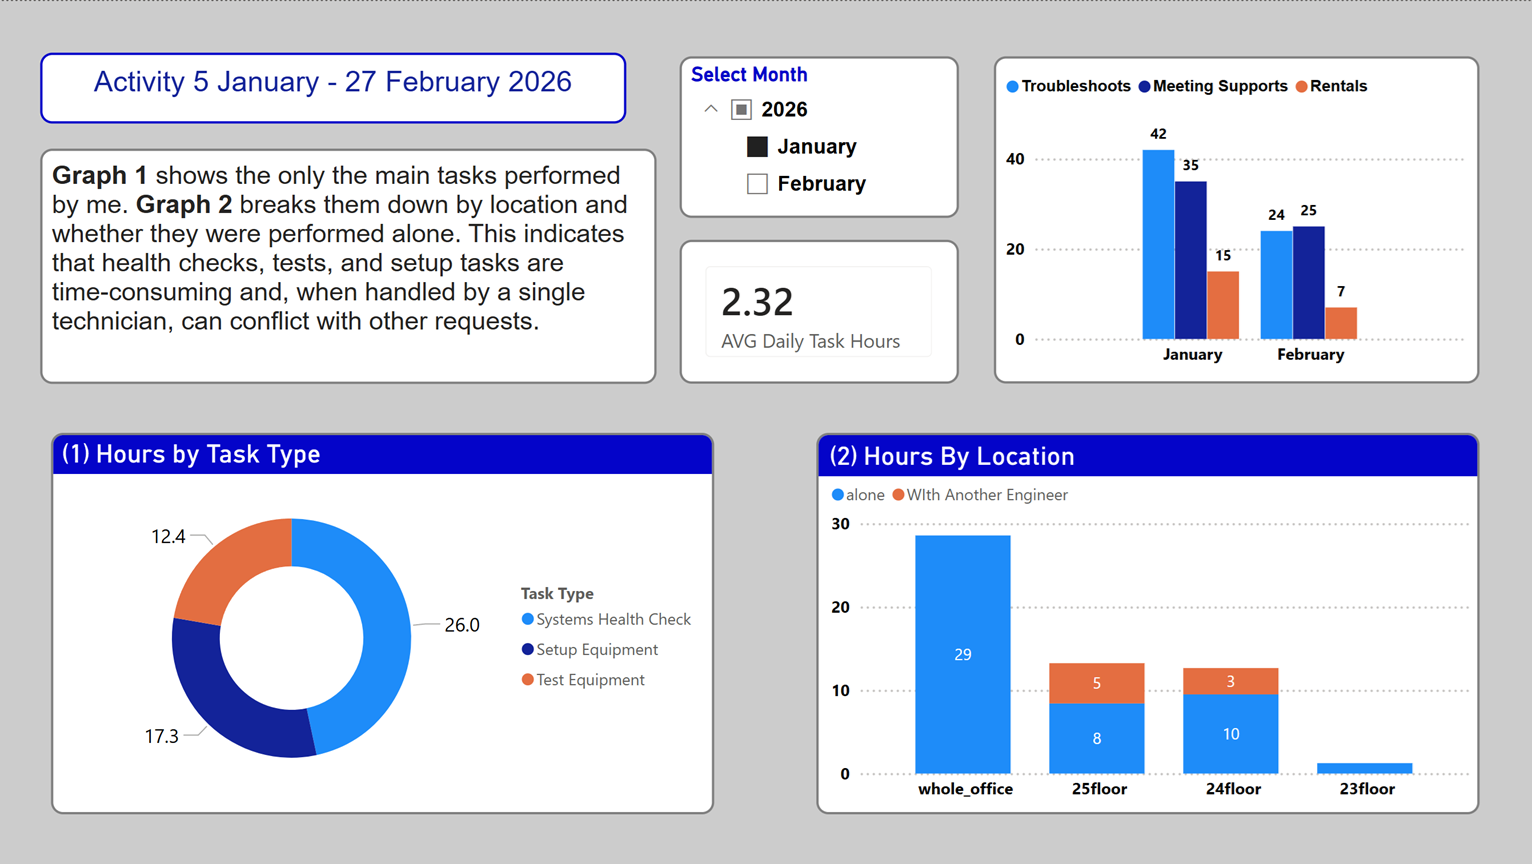

This screenshot's page, from the dashboard's own definition file:
{"tool":"powerbi","page":{"name":"Apostolos Main Tasks","canvas":[1280,720],"ordinal":0},"visuals":[{"type":"textbox","title":"Activity January 2026","box":[34.5,43.1,488.3,59.4],"z":0},{"type":"textbox","box":[34.5,122.5,513.1,196.3],"z":1000},{"type":"donutChart","title":"(1) Hours by Task Type","fields":{"Category":["apostolos_main_activities_2026.task_type"],"Y":["Sum(apostolos_main_activities_2026.Duration Hours)"]},"box":[43,360.3,552.6,317.3],"z":2000},{"type":"clusteredColumnChart","fields":{"Category":["meeting_trouble_rentals_2026.date.Variation.Date Hierarchy.Month"],"Y":["Sum(meeting_trouble_rentals_2026.troubleshoots)","Sum(meeting_trouble_rentals_2026.meeting_supports)","Sum(meeting_trouble_rentals_2026.Rentals)"]},"box":[829.1,46,405,272.8],"z":3000},{"type":"columnChart","title":"(2) Hours By Location","fields":{"Category":["apostolos_main_activities_2026.location"],"Series":["apostolos_main_activities_2026.alone_or_not"],"Y":["Sum(apostolos_main_activities_2026.Duration Hours)"]},"box":[681.5,360.3,552.6,317.3],"z":4000},{"type":"slicer","title":"Select Month","fields":{"Values":["apostolos_main_activities_2026.date.Variation.Date Hierarchy.Year","apostolos_main_activities_2026.date.Variation.Date Hierarchy.Month"]},"box":[566.8,46,233.6,135],"z":5000},{"type":"cardVisual","fields":{"Data":["apostolos_main_activities_2026.Avg Daily Task Hours"]},"box":[566.8,199.1,233.6,119.7],"z":6000}]}

Visuals, with their boxes in screenshot pixels (x1, y1, x2, y2), scaled from the page's 1280x720 canvas onto the 1532x864 screenshot:
"Activity January 2026" textbox: detection(41, 52, 626, 123)
textbox: detection(41, 147, 655, 383)
"(1) Hours by Task Type" donutChart: detection(51, 432, 713, 813)
clusteredColumnChart - meeting_trouble_rentals_2026.date.Variation.Date Hierarchy.Month x Sum(meeting_trouble_rentals_2026.troubleshoots): detection(992, 55, 1477, 383)
"(2) Hours By Location" columnChart: detection(816, 432, 1477, 813)
"Select Month" slicer: detection(678, 55, 958, 217)
cardVisual - apostolos_main_activities_2026.Avg Daily Task Hours: detection(678, 239, 958, 383)
